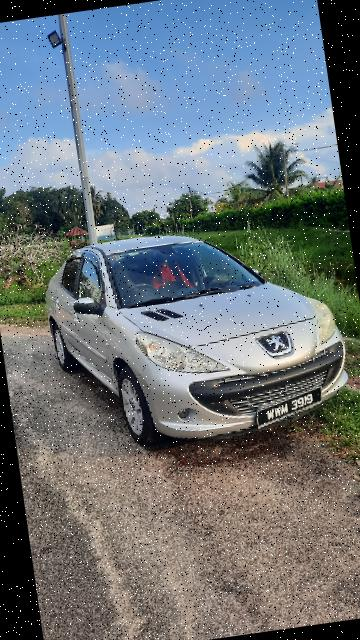License_Plate: (250, 384, 332, 431)
car: (35, 208, 360, 465)
